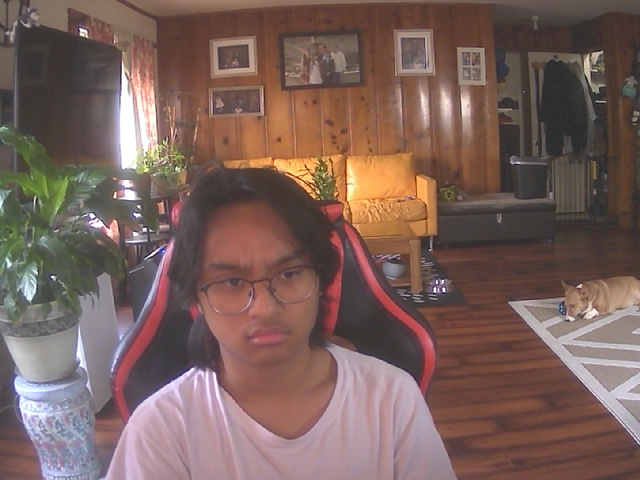anger: (189, 183, 332, 371)
